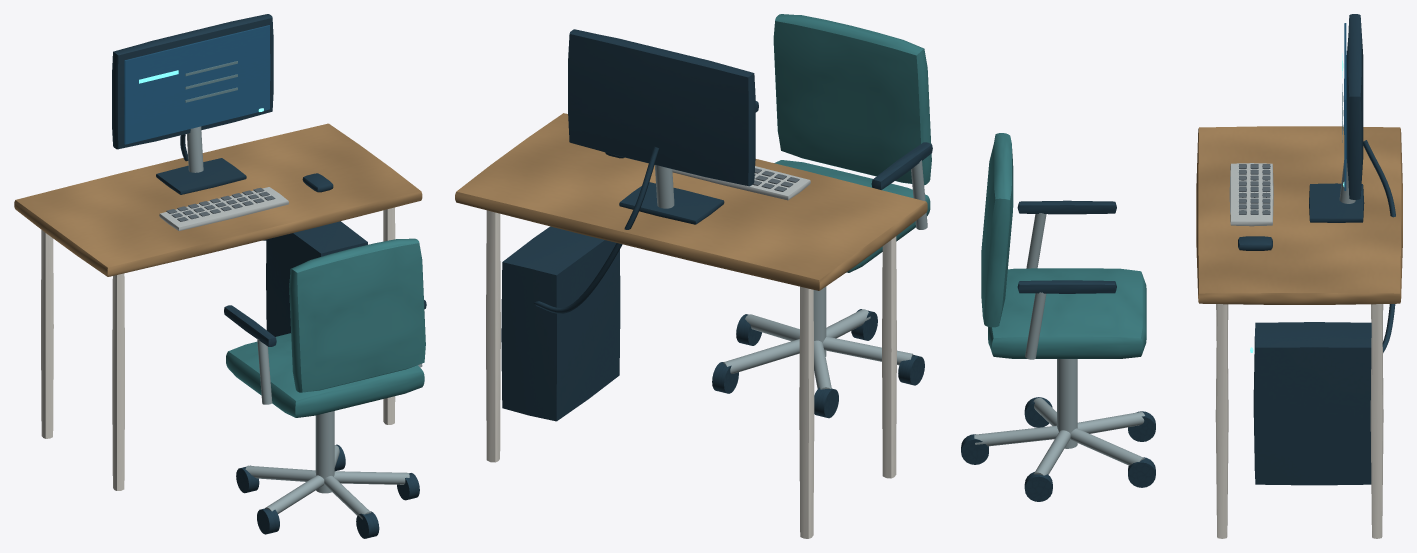
3 renders of one model, left to right at view 1: azimuth 30°, elevation 25°; view 2: azimuth 150°, elevation 25°; view 3: azimuth 270°, elevation 25°, orthographic. The views are drawn at different scales.
Visible parts, largest first — view 1: pc, chair; view 2: pc, chair; view 3: pc, chair.
Boxes of the visible parts, box(x1,y1,x2,y2) form: pc: box(14, 14, 422, 490); chair: box(224, 238, 426, 538); pc: box(455, 29, 927, 538); chair: box(712, 14, 932, 418); pc: box(1196, 14, 1402, 538); chair: box(961, 133, 1155, 501).
Bounding box in the file's own units: 1.08 × 1.24 × 1.2.
63 materials, 63 textured.
